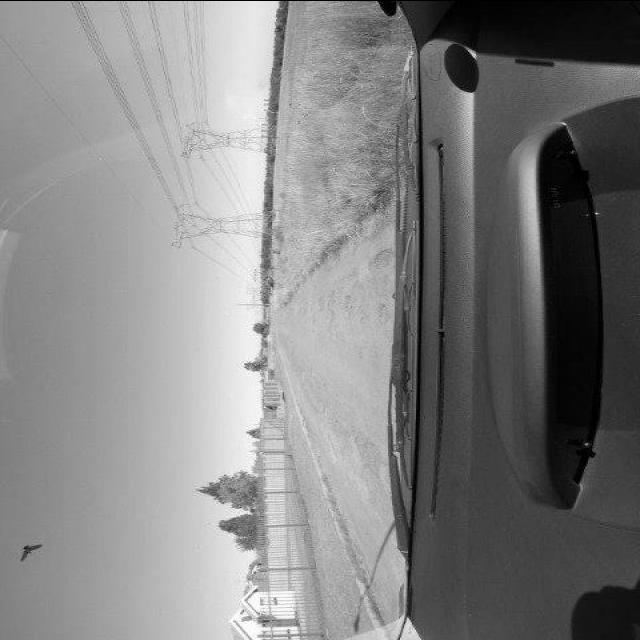lubang: (362, 245, 397, 275), (363, 437, 385, 474), (374, 299, 390, 327)
